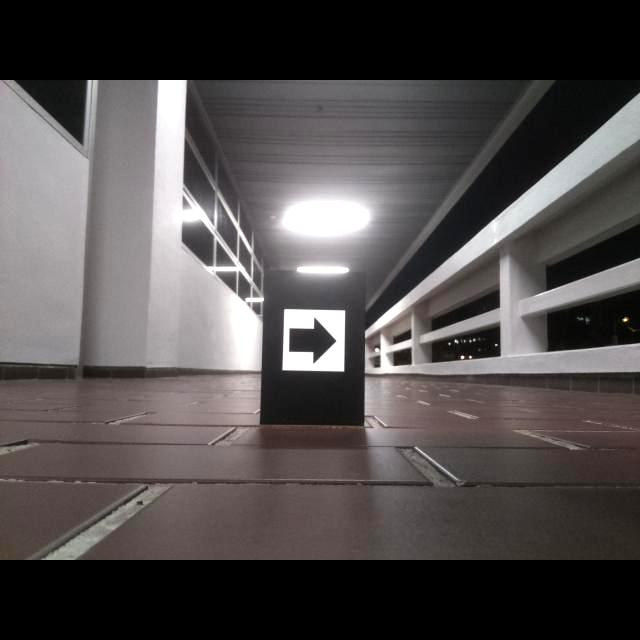RIGHT: (288, 318, 337, 364)
